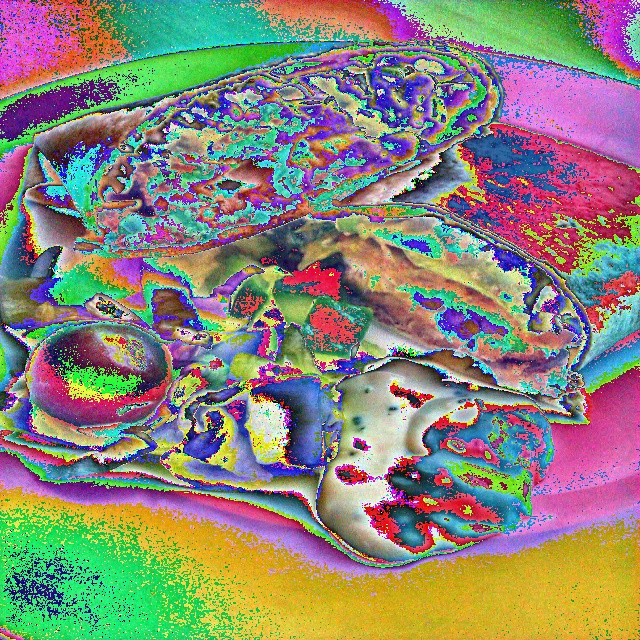background: (0, 38, 640, 563)
